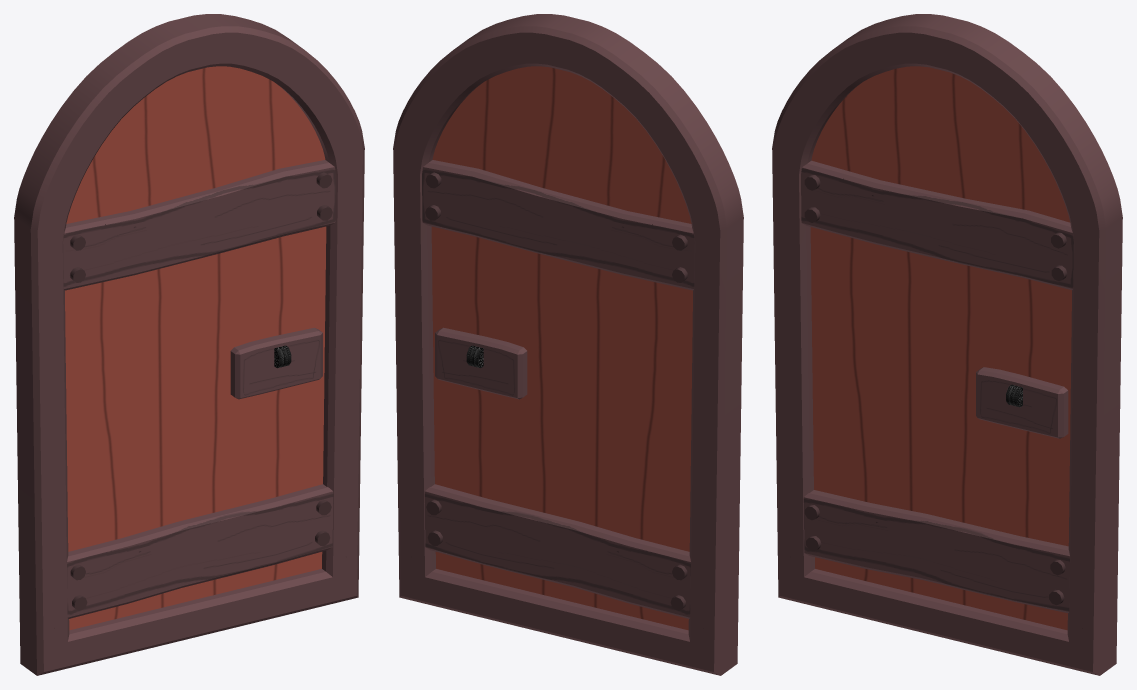
The model's file is door_1.obj.
3 views of the same model, side by side, from view 1: azimuth 30°, elevation 25°; view 2: azimuth 150°, elevation 25°; view 3: azimuth 330°, elevation 25° (orthographic).
Visible parts, largest first — view 1: pCylinder23; view 2: pCylinder23; view 3: pCylinder23.
Boxes of the visible parts, x1,y1,x2,y2 form: pCylinder23: [14, 14, 364, 675]; pCylinder23: [393, 14, 743, 675]; pCylinder23: [772, 14, 1122, 675].
Size of the model in its own units: 0.7957 by 1.38 by 0.1306.
1 material, 1 textured.
